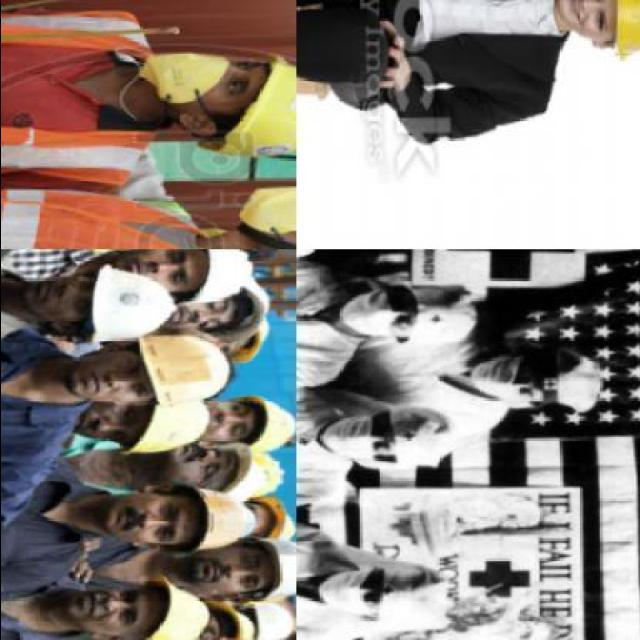helmet: (210, 44, 296, 170), (132, 324, 232, 414), (178, 480, 255, 562), (251, 532, 299, 604), (153, 578, 206, 640), (246, 382, 292, 452)
